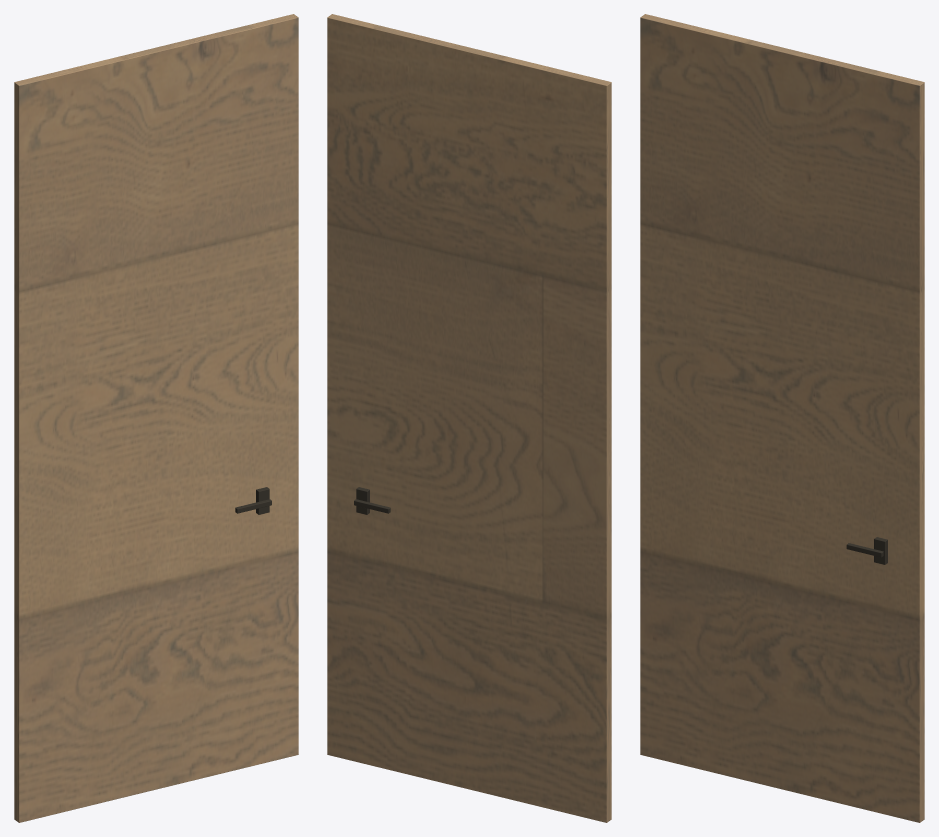
Rendered from bedroom_door_leaf.glb.
The picture shows the model from 3 angles, left to right: view 1: azimuth 30°, elevation 25°; view 2: azimuth 150°, elevation 25°; view 3: azimuth 330°, elevation 25°; orthographic projection.
Visible parts, largest first — view 1: bedroom_door_panel; view 2: bedroom_door_panel; view 3: bedroom_door_panel.
Boxes of the visible parts, x1,y1,x2,y2 form: bedroom_door_panel: [14, 14, 298, 822]; bedroom_door_panel: [327, 14, 611, 822]; bedroom_door_panel: [640, 14, 924, 822].
Size of the model in its own units: 1.12 by 2.82 by 0.116.
2 materials, 1 textured.
